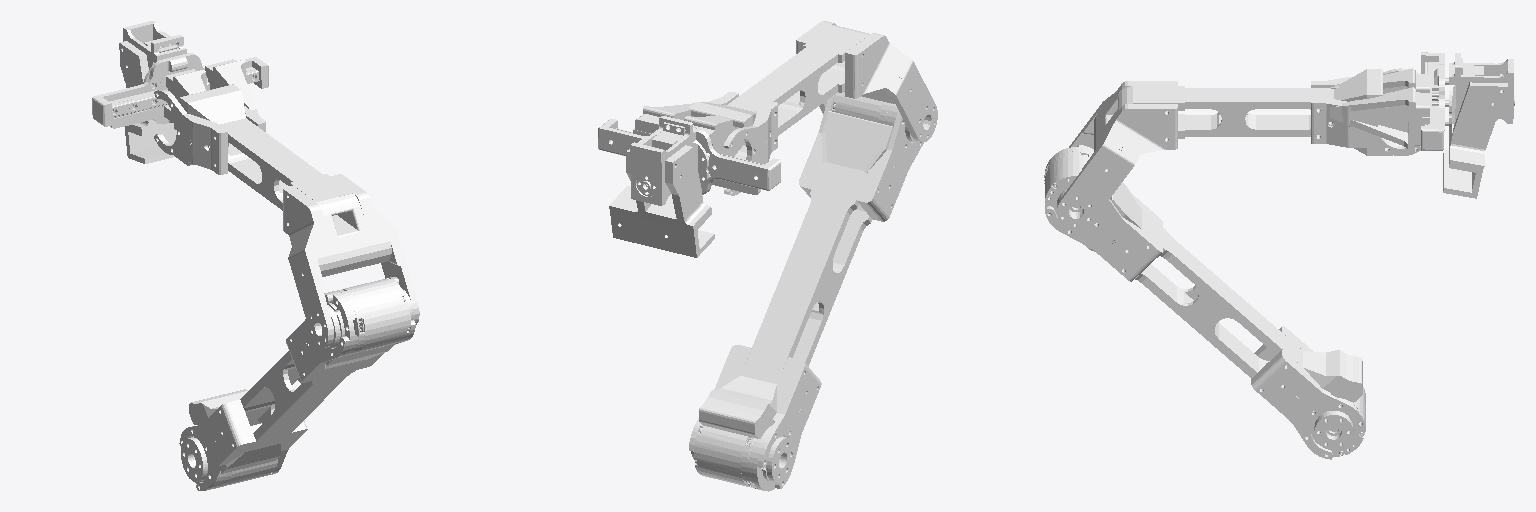
robot.urdf — ice_cream_v4.SLDASM:
<?xml version="1.0" encoding="utf-8"?>
<!-- This URDF was automatically created by SolidWorks to URDF Exporter! Originally created by Stephen Brawner (brawner@gmail.com) 
     Commit Version: 1.6.0-4-g7f85cfe  Build Version: 1.6.7995.38578
     For more information, please see http://wiki.ros.org/sw_urdf_exporter -->
<robot
  name="ice_cream_v4.SLDASM">
  <link
    name="link0">
    <inertial>
      <origin
        xyz="0.12562045375134 0.130649979636535 0.0424247553275279"
        rpy="0 0 0" />
      <mass
        value="1.19489664900539" />
      <inertia
        ixx="0.00494800558466651"
        ixy="2.32804416690283E-07"
        ixz="2.1956440853991E-07"
        iyy="0.00527852381114659"
        iyz="-0.000227508420565635"
        izz="0.00856663809224819" />
    </inertial>
    <visual>
      <origin
        xyz="0 0 0"
        rpy="0 0 0" />
      <geometry>
        <mesh
          filename="package://ice_cream_v4.SLDASM/meshes/link0.STL" />
      </geometry>
      <material
        name="">
        <color
          rgba="1 1 1 1" />
      </material>
    </visual>
    <collision>
      <origin
        xyz="0 0 0"
        rpy="0 0 0" />
      <geometry>
        <mesh
          filename="package://ice_cream_v4.SLDASM/meshes/link0.STL" />
      </geometry>
    </collision>
  </link>
  <link
    name="link1">
    <inertial>
      <origin
        xyz="8.35032309076666E-07 -0.000387617706610092 0.00329169475658608"
        rpy="0 0 0" />
      <mass
        value="0.189832654636698" />
      <inertia
        ixx="7.01386288071663E-05"
        ixy="-2.71975900701172E-08"
        ixz="-5.3176491463202E-10"
        iyy="0.000145070237898676"
        iyz="-9.83683378052095E-06"
        izz="0.000149368681624301" />
    </inertial>
    <visual>
      <origin
        xyz="0 0 0"
        rpy="0 0 0" />
      <geometry>
        <mesh
          filename="package://ice_cream_v4.SLDASM/meshes/link1.STL" />
      </geometry>
      <material
        name="">
        <color
          rgba="1 1 1 1" />
      </material>
    </visual>
    <collision>
      <origin
        xyz="0 0 0"
        rpy="0 0 0" />
      <geometry>
        <mesh
          filename="package://ice_cream_v4.SLDASM/meshes/link1.STL" />
      </geometry>
    </collision>
  </link>
  <joint
    name="joint1"
    type="continuous">
    <origin
      xyz="0.125 0.125 0.1055"
      rpy="0 0 0" />
    <parent
      link="link0" />
    <child
      link="link1" />
    <axis
      xyz="0 0 -1" />
    <limit
      lower="-3.14"
      upper="3.14"
      effort="0"
      velocity="0.1" />
  </joint>
  <link
    name="link2">
    <inertial>
      <origin
        xyz="0.0787774892671268 0.0784309553080349 0.0270775246902961"
        rpy="0 0 0" />
      <mass
        value="0.5621871932262" />
      <inertia
        ixx="0.00132772910608749"
        ixy="-0.00130168553650758"
        ixz="-1.0183699483268E-08"
        iyy="0.00173315384377229"
        iyz="1.3847486665605E-08"
        izz="0.00291527293087798" />
    </inertial>
    <visual>
      <origin
        xyz="0 0 0"
        rpy="0 0 0" />
      <geometry>
        <mesh
          filename="package://ice_cream_v4.SLDASM/meshes/link2.STL" />
      </geometry>
      <material
        name="">
        <color
          rgba="1 1 1 1" />
      </material>
    </visual>
    <collision>
      <origin
        xyz="0 0 0"
        rpy="0 0 0" />
      <geometry>
        <mesh
          filename="package://ice_cream_v4.SLDASM/meshes/link2.STL" />
      </geometry>
    </collision>
  </link>
  <joint
    name="joint2"
    type="continuous">
    <origin
      xyz="0.0276 0.02 0.0589"
      rpy="1.5708 0 -1.5708" />
    <parent
      link="link1" />
    <child
      link="link2" />
    <axis
      xyz="0 0 -1" />
    <limit
      lower="-3.14"
      upper="3.14"
      effort="0"
      velocity="0.1" />
  </joint>
  <link
    name="link3">
    <inertial>
      <origin
        xyz="-0.097805395116776 0.0317827487932699 -0.027039644710942"
        rpy="0 0 0" />
      <mass
        value="0.5425457575637" />
      <inertia
        ixx="0.00108516659035972"
        ixy="0.00101288108350852"
        ixz="1.71767016326354E-08"
        iyy="0.00146564468575668"
        iyz="1.07899681057246E-08"
        izz="0.00239159212536702" />
    </inertial>
    <visual>
      <origin
        xyz="0 0 0"
        rpy="0 0 0" />
      <geometry>
        <mesh
          filename="package://ice_cream_v4.SLDASM/meshes/link3.STL" />
      </geometry>
      <material
        name="">
        <color
          rgba="1 1 1 1" />
      </material>
    </visual>
    <collision>
      <origin
        xyz="0 0 0"
        rpy="0 0 0" />
      <geometry>
        <mesh
          filename="package://ice_cream_v4.SLDASM/meshes/link3.STL" />
      </geometry>
    </collision>
  </link>
  <joint
    name="joint3"
    type="continuous">
    <origin
      xyz="0.2301 0.22039 2.5E-05"
      rpy="3.1416 0 -0.80696" />
    <parent
      link="link2" />
    <child
      link="link3" />
    <axis
      xyz="0 0 -1" />
    <limit
      lower="-3.14"
      upper="3.14"
      effort="0"
      velocity="0.1" />
  </joint>
  <link
    name="link4">
    <inertial>
      <origin
        xyz="-0.0241087324155513 -0.000152673926980124 -0.0236488641606671"
        rpy="0 0 0" />
      <mass
        value="0.237984912790182" />
      <inertia
        ixx="0.000135583687385593"
        ixy="-8.14264489573747E-07"
        ixz="-1.26053404045704E-09"
        iyy="0.000207316847039799"
        iyz="4.20436273865997E-08"
        izz="0.00014867633868917" />
    </inertial>
    <visual>
      <origin
        xyz="0 0 0"
        rpy="0 0 0" />
      <geometry>
        <mesh
          filename="package://ice_cream_v4.SLDASM/meshes/link4.STL" />
      </geometry>
      <material
        name="">
        <color
          rgba="1 1 1 1" />
      </material>
    </visual>
    <collision>
      <origin
        xyz="0 0 0"
        rpy="0 0 0" />
      <geometry>
        <mesh
          filename="package://ice_cream_v4.SLDASM/meshes/link4.STL" />
      </geometry>
    </collision>
  </link>
  <joint
    name="joint4"
    type="continuous">
    <origin
      xyz="-0.25632 0.15654 -0.0032"
      rpy="0 0 -0.80696" />
    <parent
      link="link3" />
    <child
      link="link4" />
    <axis
      xyz="0 0 -1" />
    <limit
      lower="-3.14"
      upper="3.14"
      effort="0"
      velocity="0.1" />
  </joint>
  <link
    name="link5">
    <inertial>
      <origin
        xyz="0.00238884667852846 -0.0121610833620511 0.0433603237885457"
        rpy="0 0 0" />
      <mass
        value="0.182394789734618" />
      <inertia
        ixx="9.97480031485989E-05"
        ixy="9.04125614745354E-06"
        ixz="-1.76269221055036E-06"
        iyy="0.000170392560639141"
        iyz="1.25883408488176E-05"
        izz="0.000216280340891141" />
    </inertial>
    <visual>
      <origin
        xyz="0 0 0"
        rpy="0 0 0" />
      <geometry>
        <mesh
          filename="package://ice_cream_v4.SLDASM/meshes/link5.STL" />
      </geometry>
      <material
        name="">
        <color
          rgba="1 1 1 1" />
      </material>
    </visual>
    <collision>
      <origin
        xyz="0 0 0"
        rpy="0 0 0" />
      <geometry>
        <mesh
          filename="package://ice_cream_v4.SLDASM/meshes/link5.STL" />
      </geometry>
    </collision>
  </link>
  <joint
    name="joint5"
    type="continuous">
    <origin
      xyz="-0.099648 -0.011424 -0.0245"
      rpy="3.1223 -1.5708 0" />
    <parent
      link="link4" />
    <child
      link="link5" />
    <axis
      xyz="0 0 -1" />
    <limit
      lower="-3.14"
      upper="3.14"
      effort="0"
      velocity="0.1" />
  </joint>
  <link
    name="fingerlink_R">
    <inertial>
      <origin
        xyz="0.00135856705566337 0.00788196749272896 -0.00970665913680069"
        rpy="0 0 0" />
      <mass
        value="0.0404058957986075" />
      <inertia
        ixx="1.22950421752594E-05"
        ixy="1.26216943382242E-07"
        ixz="1.48061943892849E-08"
        iyy="1.05866193249968E-05"
        iyz="-1.31236144076966E-06"
        izz="1.47069514069606E-05" />
    </inertial>
    <visual>
      <origin
        xyz="0 0 0"
        rpy="0 0 0" />
      <geometry>
        <mesh
          filename="package://ice_cream_v4.SLDASM/meshes/fingerlink_R.STL" />
      </geometry>
      <material
        name="">
        <color
          rgba="1 1 1 1" />
      </material>
    </visual>
    <collision>
      <origin
        xyz="0 0 0"
        rpy="0 0 0" />
      <geometry>
        <mesh
          filename="package://ice_cream_v4.SLDASM/meshes/fingerlink_R.STL" />
      </geometry>
    </collision>
  </link>
  <joint
    name="FINGER_RIGHT"
    type="prismatic">
    <origin
      xyz="0.023822 -0.00228 0.0871"
      rpy="1.5708 0 -1.5708" />
    <parent
      link="link5" />
    <child
      link="fingerlink_R" />
    <axis
      xyz="0 0 1" />
    <limit
      lower="0"
      upper="0"
      effort="0"
      velocity="0" />
  </joint>
  <link
    name="fingerlink_L">
    <inertial>
      <origin
        xyz="0.00786950821511173 -0.00135990732930491 -0.00970665914813451"
        rpy="0 0 0" />
      <mass
        value="0.0404058958000485" />
      <inertia
        ixx="1.05866193072039E-05"
        ixy="-1.26223128475295E-07"
        ixz="-1.31236145136589E-06"
        iyy="1.22950421489113E-05"
        iyz="-1.48061920056705E-08"
        izz="1.47069514380754E-05" />
    </inertial>
    <visual>
      <origin
        xyz="0 0 0"
        rpy="0 0 0" />
      <geometry>
        <mesh
          filename="package://ice_cream_v4.SLDASM/meshes/fingerlink_L.STL" />
      </geometry>
      <material
        name="">
        <color
          rgba="1 1 1 1" />
      </material>
    </visual>
    <collision>
      <origin
        xyz="0 0 0"
        rpy="0 0 0" />
      <geometry>
        <mesh
          filename="package://ice_cream_v4.SLDASM/meshes/fingerlink_L.STL" />
      </geometry>
    </collision>
  </link>
  <joint
    name="FINGER_L"
    type="prismatic">
    <origin
      xyz="-0.016178 -0.00228 0.08725"
      rpy="0 -1.5708 0" />
    <parent
      link="link5" />
    <child
      link="fingerlink_L" />
    <axis
      xyz="0 0 -1" />
    <limit
      lower="0"
      upper="0"
      effort="0"
      velocity="0" />
  </joint>
</robot>

--- What the picture shows (computed from the rendered views, not written in the file) ---
The picture shows the robot from 3 angles, left to right: view 1: azimuth 30°, elevation 25°; view 2: azimuth 150°, elevation 25°; view 3: azimuth 270°, elevation 25°; orthographic projection.
Model ice_cream_v4.SLDASM with 8 links and 7 joints (5 continuous, 2 prismatic), rooted at link0, posed all joints at 0.
Visible links, largest first — view 1: link3, link2, link5, fingerlink_L, fingerlink_R; view 2: link2, link3, link5, fingerlink_L, fingerlink_R; view 3: link3, link2, link5, fingerlink_R, fingerlink_L.
Boxes of the visible links, bbox=[...] form: link3: bbox=[154, 84, 419, 356]; link2: bbox=[179, 277, 415, 490]; link5: bbox=[92, 21, 268, 163]; fingerlink_L: bbox=[110, 69, 218, 129]; fingerlink_R: bbox=[153, 59, 258, 113]; link2: bbox=[689, 95, 923, 491]; link3: bbox=[688, 21, 937, 195]; link5: bbox=[598, 116, 780, 257]; fingerlink_L: bbox=[684, 111, 760, 194]; fingerlink_R: bbox=[633, 102, 716, 184]; link3: bbox=[1044, 68, 1420, 230]; link2: bbox=[1045, 145, 1365, 459]; link5: bbox=[1421, 52, 1515, 198]; fingerlink_R: bbox=[1330, 87, 1429, 151]; fingerlink_L: bbox=[1331, 68, 1429, 93].
Size in the robot's own frame: 0.166 by 0.4208 by 0.3777 metres.
Meshes: 8 distinct files referenced, 5 mesh visuals loaded (5 binary STL); not drawn: 3 (reference not matched to a file when rendering).
